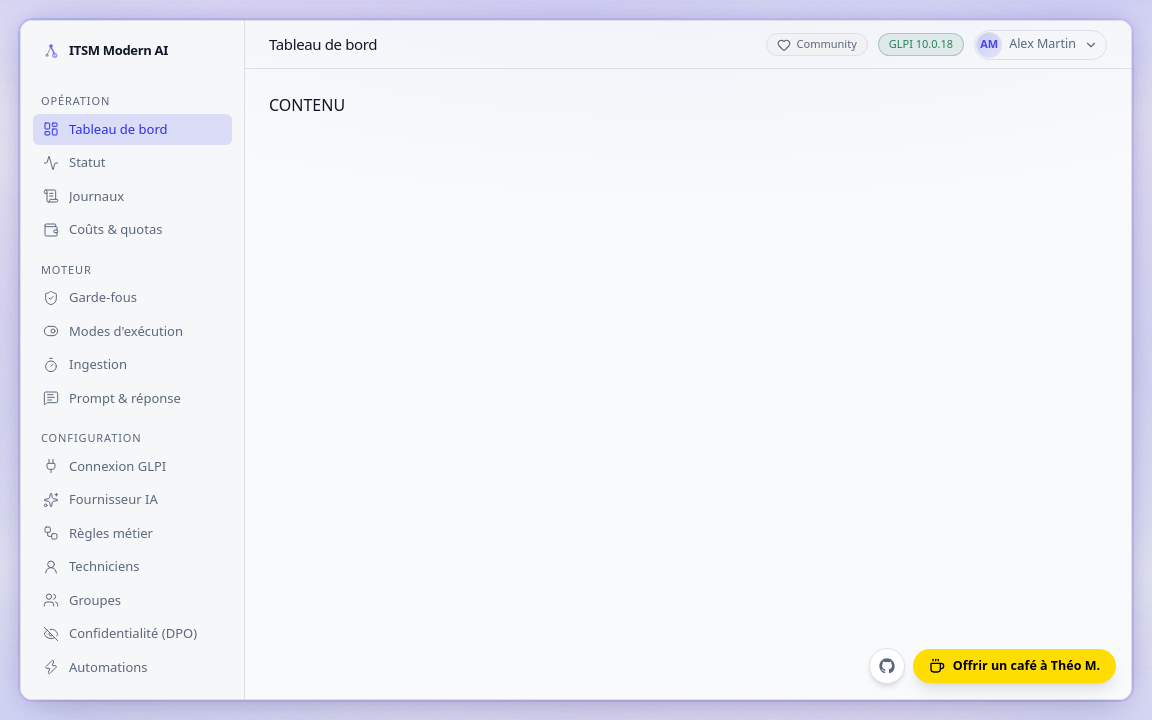
it: Layout — menu de compte › ouvre l'identité, les réglages, la version et la déconnexion
Click the button. click: (1041, 44)
box: [974, 30, 1107, 60]
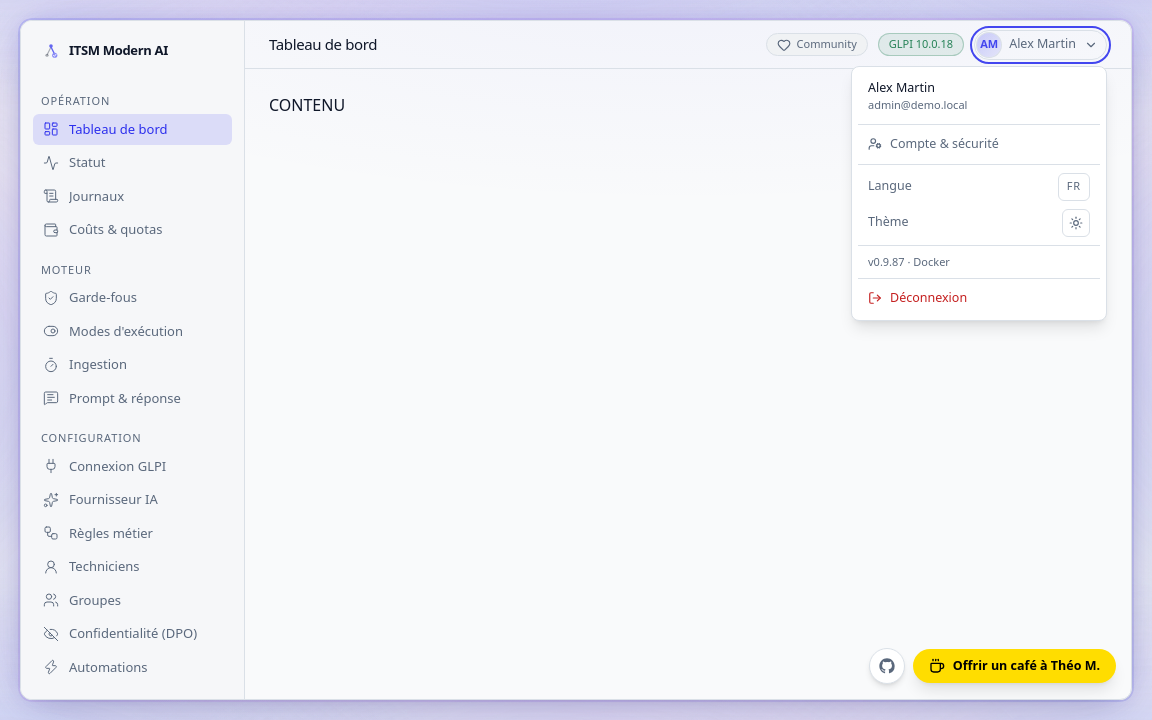
Now the element "Compte" is shown, box [851, 66, 1107, 321]
Now the text "admin@demo.local" is shown, box [868, 97, 967, 112]
Now the link "Compte & sécurité" is shown, box [868, 135, 999, 152]
